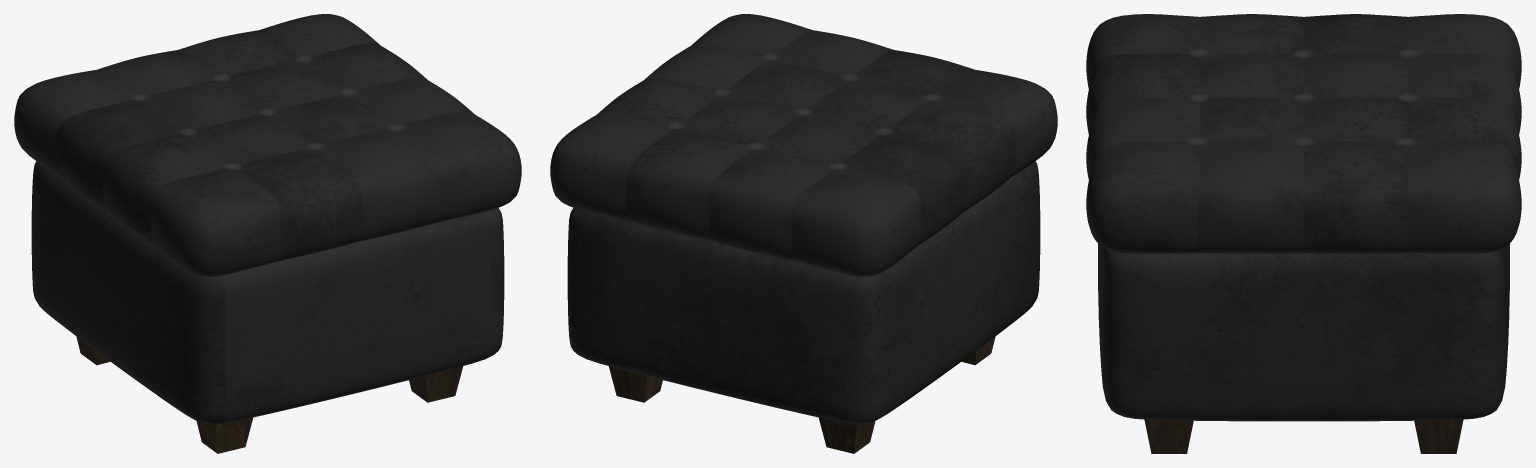
The model's file is pouf4.glb.
The picture shows the model from 3 angles, left to right: view 1: azimuth 30°, elevation 25°; view 2: azimuth 150°, elevation 25°; view 3: azimuth 270°, elevation 25°; orthographic projection. The views are drawn at different scales.
Visible parts, largest first — view 1: Low.002; view 2: Low.002; view 3: Low.002.
Part boxes in pixels (x1,y1,x2,y2): Low.002: [14, 14, 521, 453]; Low.002: [550, 14, 1057, 453]; Low.002: [1086, 14, 1521, 453].
Bounding box in the file's own units: 210 × 160 × 210.
Materials: 1 (1 with a texture image).
